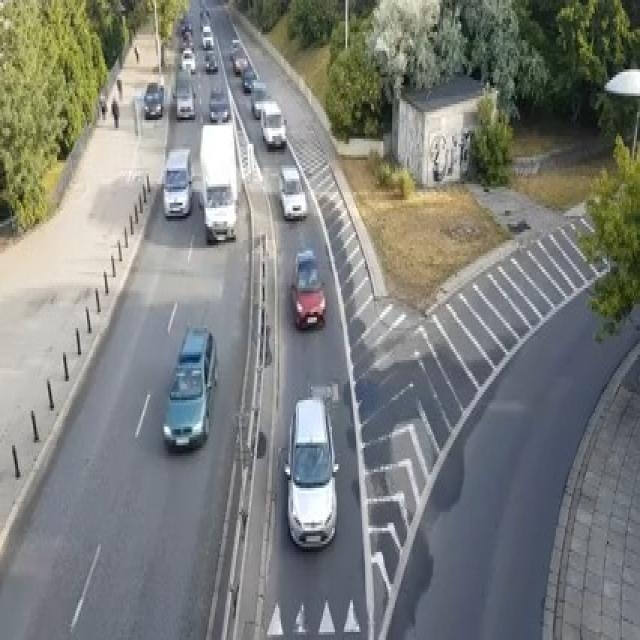bus: (198, 120, 238, 243)
car: (282, 395, 338, 549), (162, 325, 218, 451), (290, 248, 326, 328), (162, 146, 194, 218), (278, 162, 306, 218), (260, 98, 285, 146), (173, 67, 195, 120), (142, 80, 164, 117), (208, 85, 228, 123), (249, 80, 269, 117), (230, 48, 248, 75), (180, 48, 196, 72), (242, 66, 257, 90), (204, 51, 218, 72), (202, 24, 214, 48), (180, 19, 191, 37)
